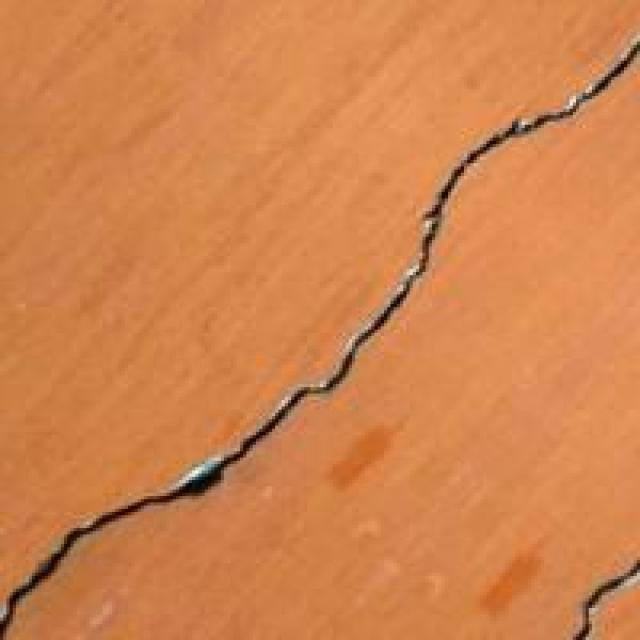crack: (0, 38, 637, 637)
